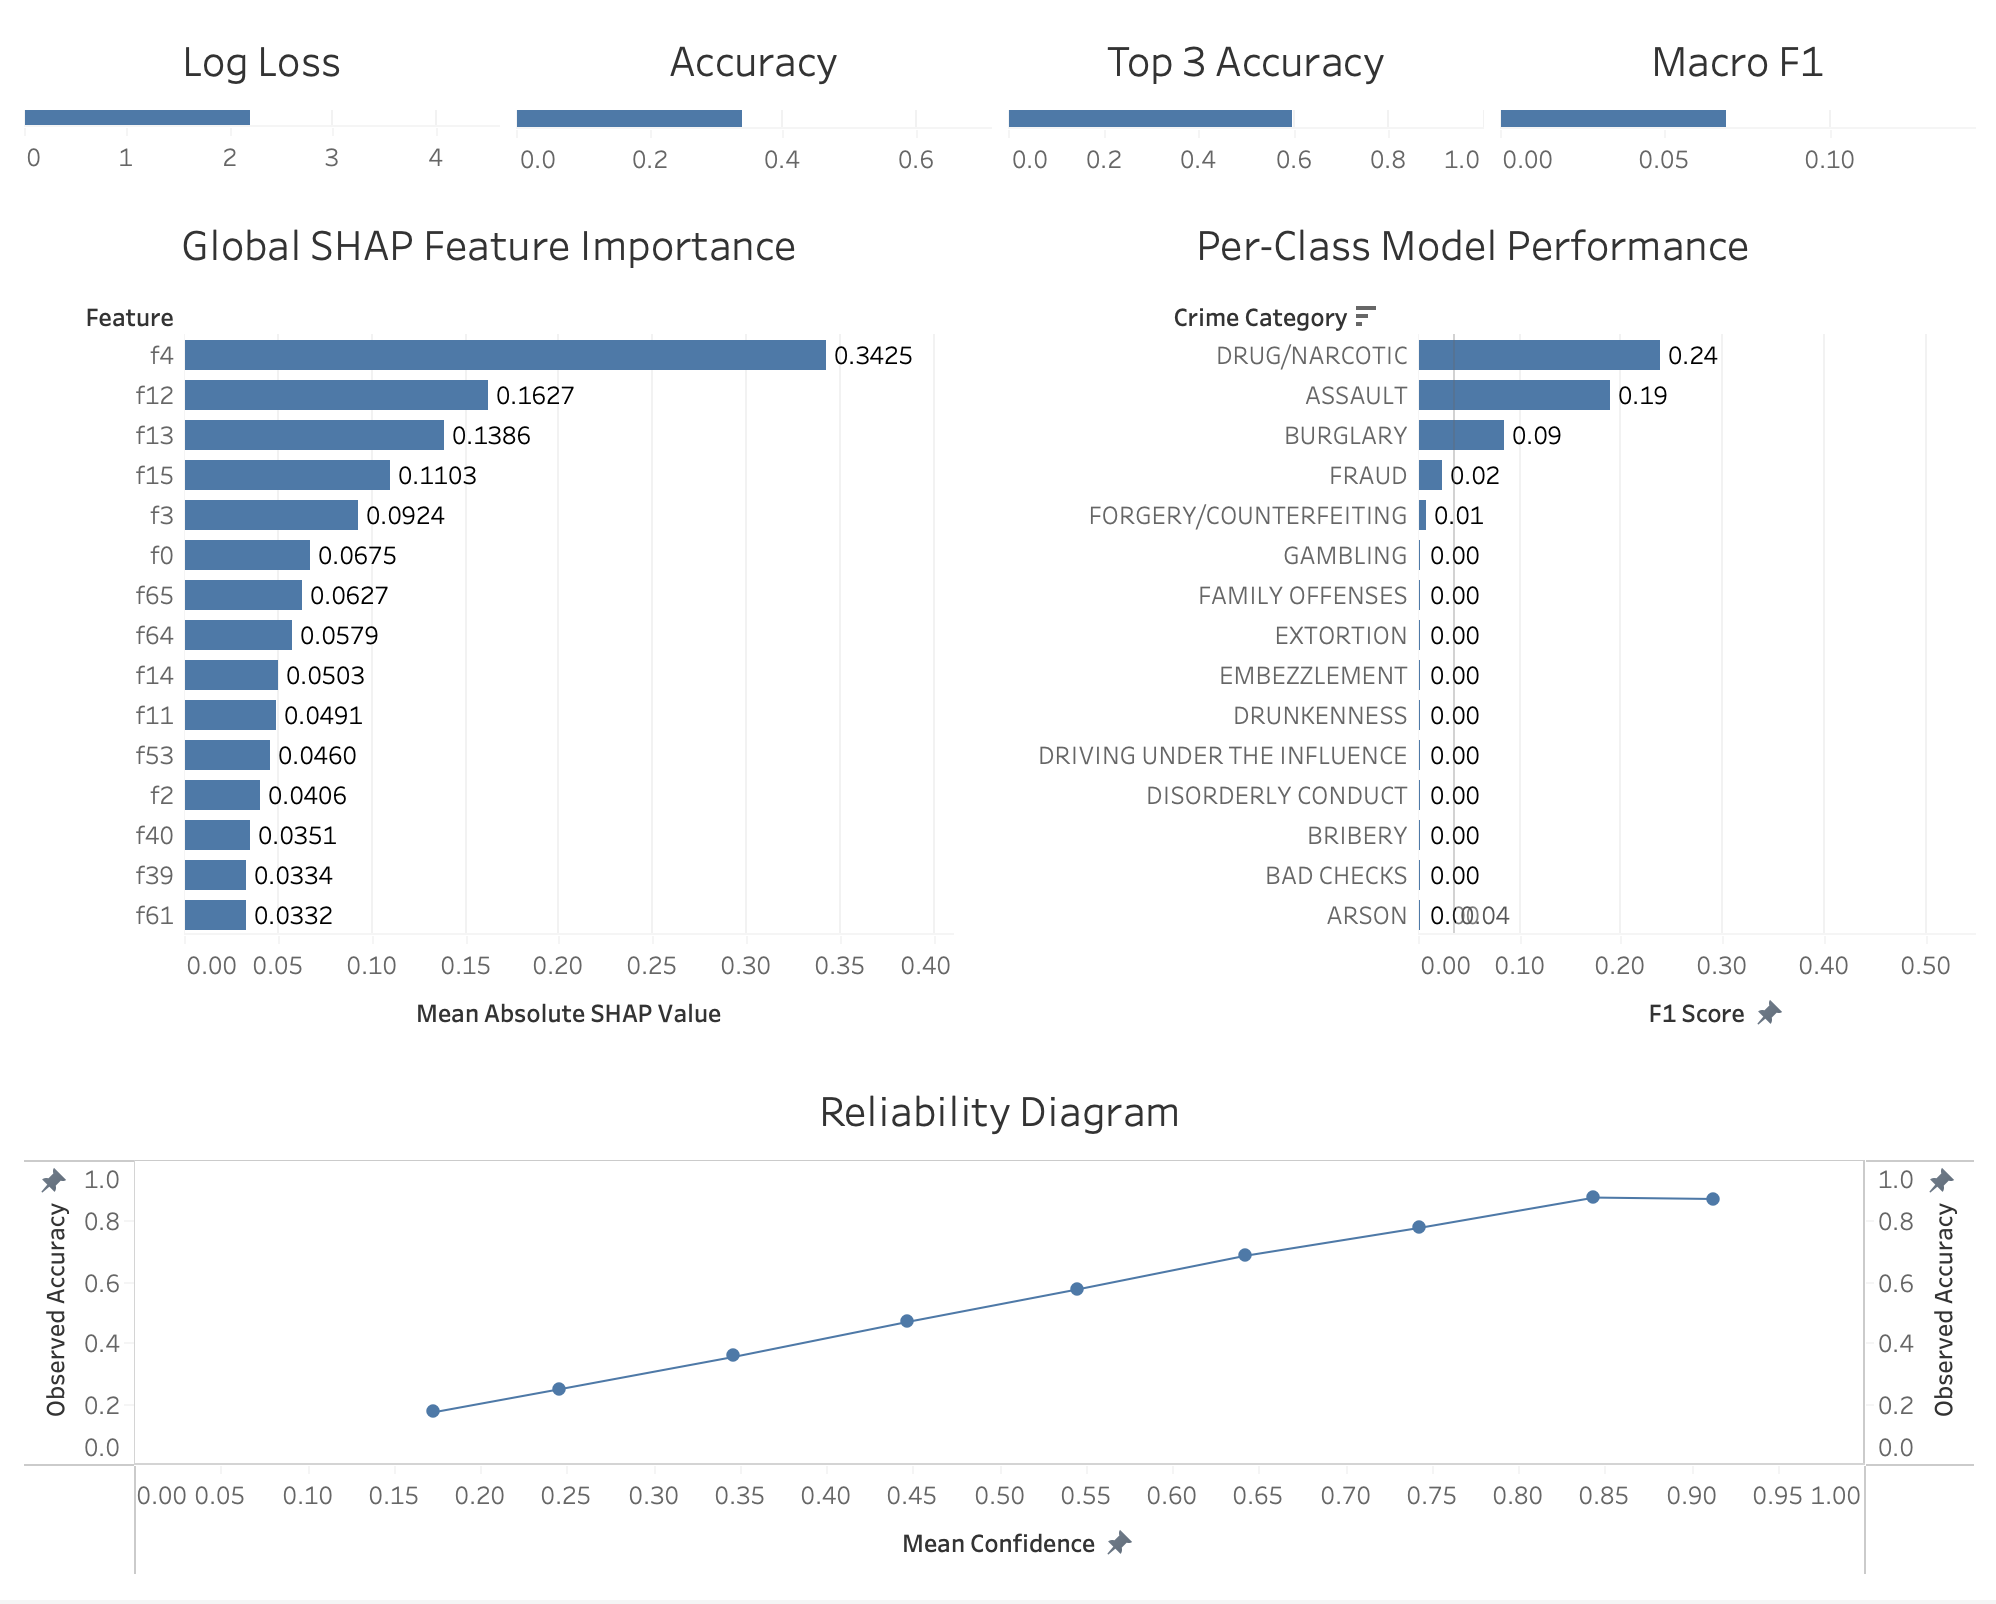

The dashboard page shown, as its layout file describes it:
{"tool":"tableau","page":{"name":"Final Model Evaluation","canvas":[1000,800],"ordinal":2},"visuals":[{"type":"worksheet","title":"Log Loss KPI","mark":"Automatic","cols":["log_loss"],"box":[8,8,246,92]},{"type":"worksheet","title":"Accuracy KPI","mark":"Automatic","cols":["accuracy"],"box":[254,8,246,92]},{"type":"worksheet","title":"Top 3 KPI","mark":"Automatic","cols":["top_3_accuracy"],"box":[500,8,246,92]},{"type":"worksheet","title":"Macro F1 KPI","mark":"Automatic","cols":["macro_f1"],"box":[746,8,246,92]},{"type":"worksheet","title":"Global SHAP Feature","mark":"Automatic","rows":["feature"],"cols":["mean_absolute_shap"],"box":[8,100,473,433]},{"type":"worksheet","title":"Per-Class F1 Score","mark":"Automatic","rows":["crime_category"],"cols":["f1_score"],"box":[481,100,511,433]},{"type":"worksheet","title":"Reliability Diagram","mark":"Line","rows":["observed_accuracy","observed_accuracy"],"cols":["mean_confidence"],"box":[8,533,984,259]}]}

Visuals, with their boxes in screenshot pixels (x1, y1, x2, y2), scaled from the page's 1000x800 canvas onto the 1996x1604 screenshot:
"Log Loss KPI" worksheet: select_region(16, 16, 507, 200)
"Accuracy KPI" worksheet: select_region(507, 16, 998, 200)
"Top 3 KPI" worksheet: select_region(998, 16, 1489, 200)
"Macro F1 KPI" worksheet: select_region(1489, 16, 1980, 200)
"Global SHAP Feature" worksheet: select_region(16, 200, 960, 1069)
"Per-Class F1 Score" worksheet: select_region(960, 200, 1980, 1069)
"Reliability Diagram" worksheet (Line marks): select_region(16, 1069, 1980, 1588)
